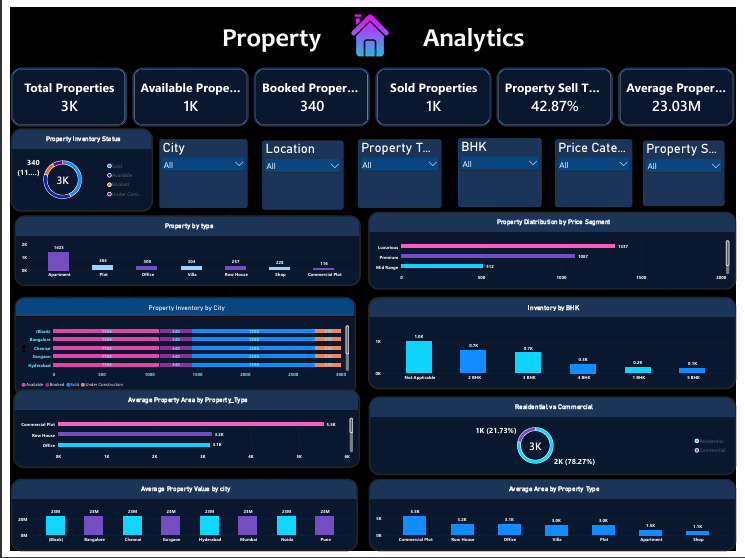

What the dashboard file says about the page in this screenshot:
{"tool":"powerbi","page":{"name":"Property Analysis","canvas":[2000,1500],"ordinal":1},"visuals":[{"type":"textbox","box":[0,0,2000,145],"z":0},{"type":"donutChart","title":"Property Inventory Status","fields":{"Category":["Dim_Property.Property_Status"],"Y":["_Properties_Measures (2).Total Properties"]},"box":[0,333.3,391.7,230],"z":1000},{"type":"group","id":"g1","title":"Group 1","box":[0,165,1995,162.5],"z":2000},{"type":"cardVisual","fields":{"Data":["_Properties_Measures (2).Total Properties"]},"box":[0,165,320.8,162.5],"z":2000,"group":"g2"},{"type":"cardVisual","fields":{"Data":["_Properties_Measures (2).Available Properties"]},"box":[334.8,165,320.8,162.5],"z":3000,"group":"g2"},{"type":"clusteredColumnChart","title":"Property by type","fields":{"Category":["Dim_Property.Property_Type"],"Y":["_Properties_Measures (2).Total Properties"]},"box":[10,572.5,955,195],"z":3000},{"type":"cardVisual","fields":{"Data":["_Properties_Measures (2).Booked Properties"]},"box":[669.7,165,320.8,162.5],"z":4000,"group":"g2"},{"type":"clusteredBarChart","title":"Property Distribution by Price Segment","fields":{"Category":["Dim_Property.Price  Category"],"Y":["_Properties_Measures (2).Total Properties"]},"box":[985,562.5,1015,215],"z":4000},{"type":"cardVisual","fields":{"Data":["_Properties_Measures (2).Sold Properties"]},"box":[1004.5,165,320.8,162.5],"z":5000,"group":"g2"},{"type":"barChart","title":"Property Inventory by City","fields":{"Category":["Dim_Location.City"],"Series":["Dim_Property.Property_Status"],"Y":["_Properties_Measures (2).Total Properties"]},"box":[10,798.3,941.7,275],"z":5000},{"type":"cardVisual","fields":{"Data":["_Properties_Measures (2).Property Sell Through %"]},"box":[1339.4,165,320.8,162.5],"z":6000,"group":"g2"},{"type":"clusteredColumnChart","title":"Inventory by BHK","fields":{"Category":["Dim_Property.BHK"],"Y":["_Properties_Measures (2).Total Properties"]},"box":[985,797.5,1015,255],"z":6000},{"type":"cardVisual","fields":{"Data":["_Properties_Measures (2).Average Property Value"]},"box":[1674.2,165,320.8,162.5],"z":7000,"group":"g2"},{"type":"barChart","fields":{"Category":["Dim_Property.Property_Type"],"Y":["_Properties_Measures (2).Average Property Area"]},"box":[6.7,1053.3,956.7,216.7],"z":7000},{"type":"donutChart","title":"Residential vs Commercial","fields":{"Category":["Dim_Property.Property Segment "],"Y":["_Properties_Measures (2).Total Properties"]},"box":[986.7,1073.3,1013.3,216.7],"z":8000},{"type":"clusteredColumnChart","title":"Average Property Value by city","fields":{"Category":["Dim_Location.City"],"Y":["_Properties_Measures (2).Average Property Value"]},"box":[0,1300,957,200],"z":9000},{"type":"clusteredColumnChart","title":"Average Area by Property Type","fields":{"Category":["Dim_Property.Property_Type"],"Y":["_Properties_Measures (2).Average Property Area"]},"box":[987,1300,1013,200],"z":10000},{"type":"slicer","fields":{"Values":["Dim_Location.City"]},"box":[410,363.3,243.3,190],"z":11000},{"type":"slicer","fields":{"Values":["Dim_Location.Location"]},"box":[693.3,366.7,223.3,190],"z":12000},{"type":"slicer","fields":{"Values":["Dim_Property.Property_Type"]},"box":[956.7,363.3,230,190],"z":13000},{"type":"slicer","fields":{"Values":["Dim_Property.BHK"]},"box":[1233.3,360,230,190],"z":14000},{"type":"slicer","fields":{"Values":["Dim_Property.Price  Category"]},"box":[1500,363.3,213.3,186.7],"z":15000},{"type":"slicer","fields":{"Values":["Dim_Property.Property_Status"]},"box":[1743.3,366.7,223.3,180],"z":16000},{"type":"image","box":[830,7.5,320,137.5],"z":17000},{"type":"group","id":"g2","title":"Group 2","box":[0,165,1995,162.5],"z":17001,"group":"g1"}]}

Visuals, with their boxes in screenshot pixels (x1, y1, x2, y2), scaled from the page's 2000x1500 canvas onto the 745x558 screenshot:
textbox: <bbox>0, 0, 744, 54</bbox>
"Property Inventory Status" donutChart: <bbox>0, 124, 146, 210</bbox>
"Group 1" group: <bbox>0, 61, 743, 122</bbox>
cardVisual - _Properties_Measures (2).Total Properties: <bbox>0, 61, 119, 122</bbox>
cardVisual - _Properties_Measures (2).Available Properties: <bbox>125, 61, 244, 122</bbox>
"Property by type" clusteredColumnChart: <bbox>4, 213, 359, 286</bbox>
cardVisual - _Properties_Measures (2).Booked Properties: <bbox>249, 61, 369, 122</bbox>
"Property Distribution by Price Segment" clusteredBarChart: <bbox>367, 209, 744, 289</bbox>
cardVisual - _Properties_Measures (2).Sold Properties: <bbox>374, 61, 494, 122</bbox>
"Property Inventory by City" barChart: <bbox>4, 297, 355, 399</bbox>
cardVisual - _Properties_Measures (2).Property Sell Through %: <bbox>499, 61, 618, 122</bbox>
"Inventory by BHK" clusteredColumnChart: <bbox>367, 297, 744, 392</bbox>
cardVisual - _Properties_Measures (2).Average Property Value: <bbox>624, 61, 743, 122</bbox>
barChart - Dim_Property.Property_Type x _Properties_Measures (2).Average Property Area: <bbox>2, 392, 359, 472</bbox>
"Residential vs Commercial" donutChart: <bbox>368, 399, 744, 480</bbox>
"Average Property Value by city" clusteredColumnChart: <bbox>0, 484, 356, 557</bbox>
"Average Area by Property Type" clusteredColumnChart: <bbox>368, 484, 744, 557</bbox>
slicer - Dim_Location.City: <bbox>153, 135, 243, 206</bbox>
slicer - Dim_Location.Location: <bbox>258, 136, 341, 207</bbox>
slicer - Dim_Property.Property_Type: <bbox>356, 135, 442, 206</bbox>
slicer - Dim_Property.BHK: <bbox>459, 134, 545, 205</bbox>
slicer - Dim_Property.Price  Category: <bbox>559, 135, 638, 205</bbox>
slicer - Dim_Property.Property_Status: <bbox>649, 136, 733, 203</bbox>
image: <bbox>309, 3, 428, 54</bbox>
"Group 2" group: <bbox>0, 61, 743, 122</bbox>
